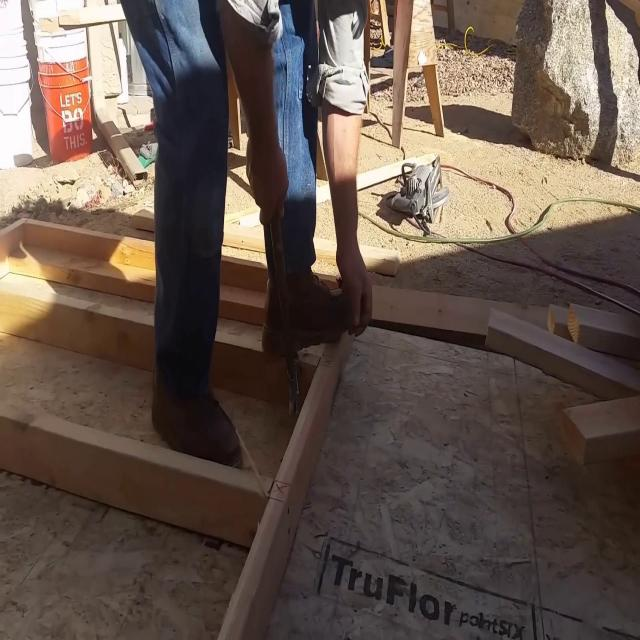hammer: (269, 209, 300, 417)
